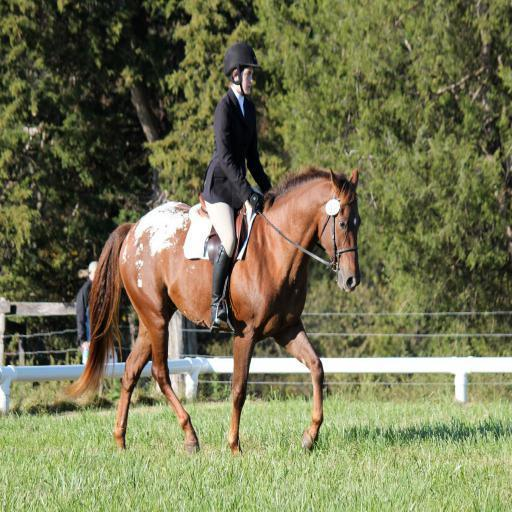horse: (60, 162, 362, 456)
